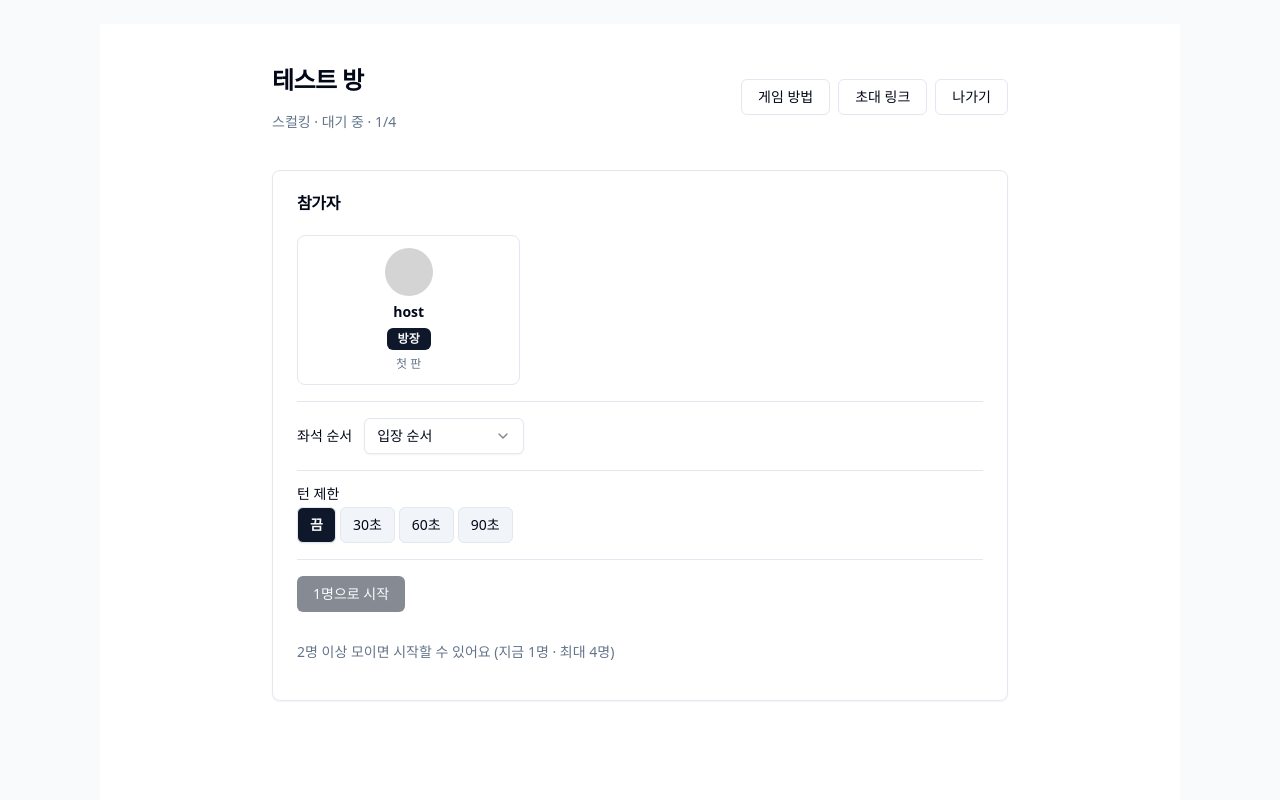
Test case: RoomPage — 대기실 첫 입장 튜토리얼 (D-121) › 헤더 "게임 방법" 버튼으로 다시 연다
The width and height of the screenshot is (1280, 800).
What coordinates should you click on to do the following:
click the button "게임 방법"
I would click on:
 (786, 97)
Its box is [741,79,830,115].
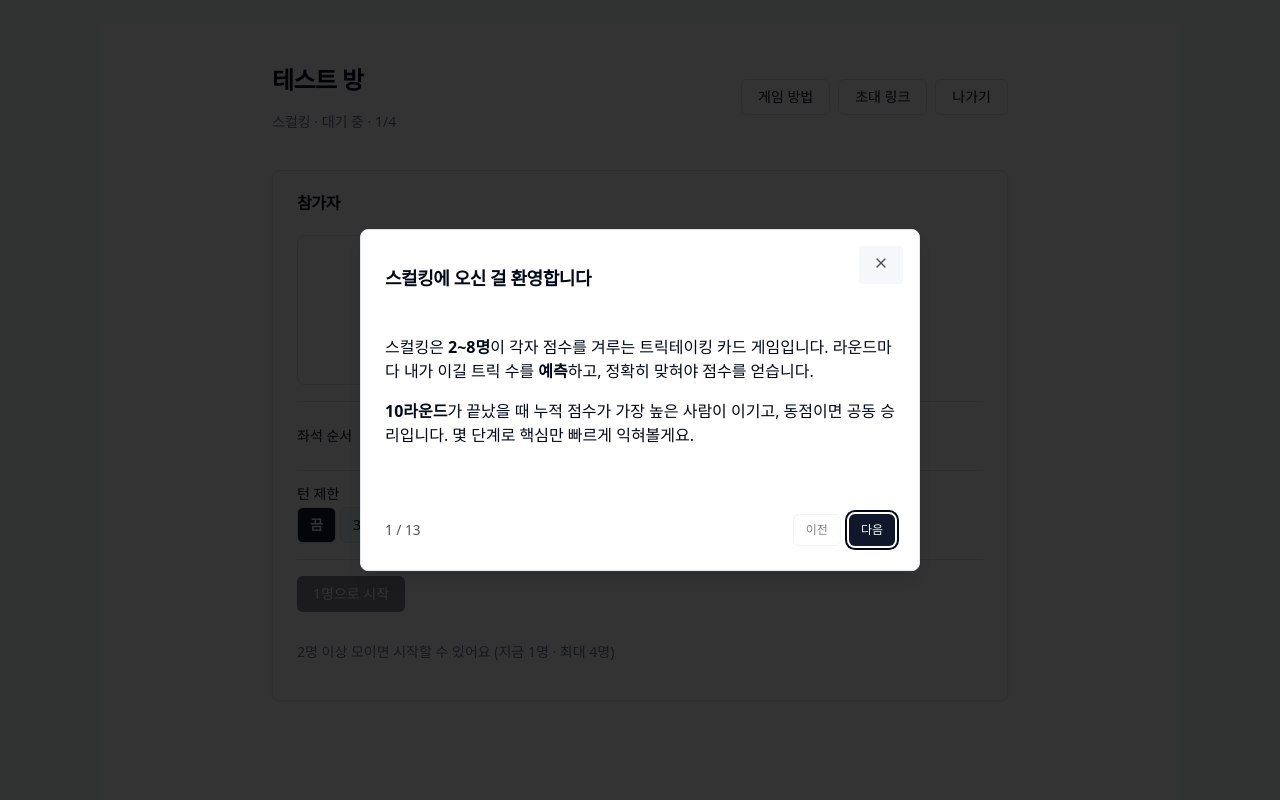
Expected: the heading "스컬킹에 오신 걸 환영합니다" is shown, [385,266,591,290]
